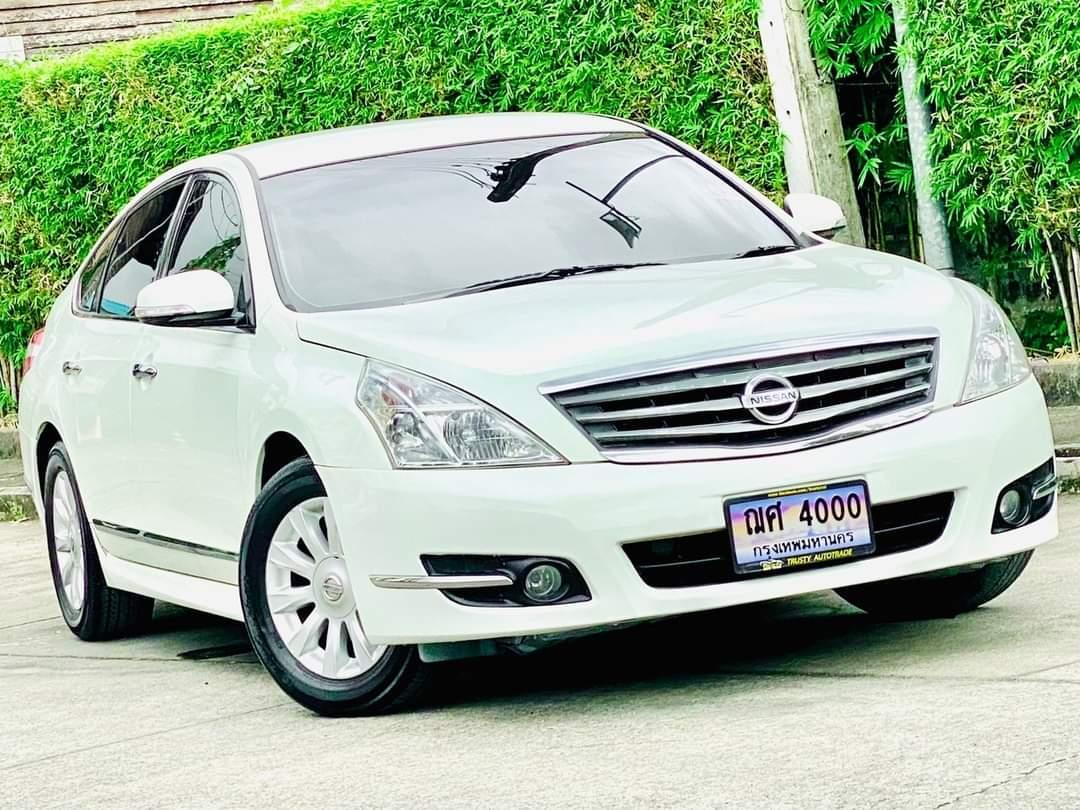license-plate: (723, 474, 879, 580)
